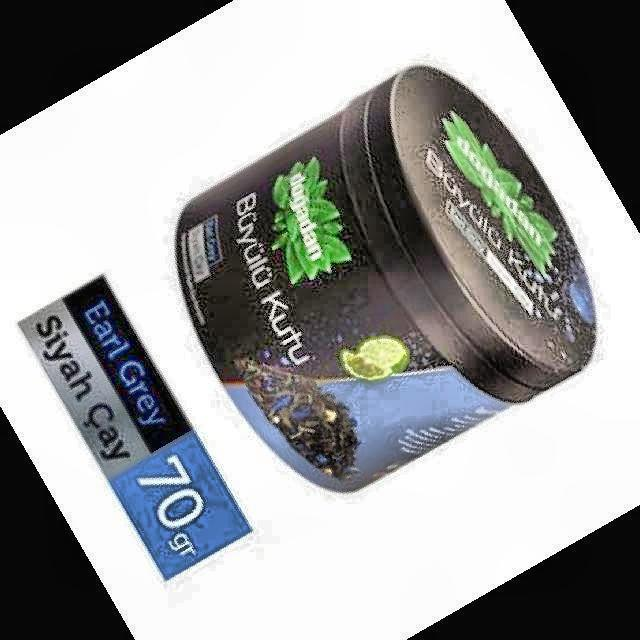plastic: (176, 66, 596, 491)
